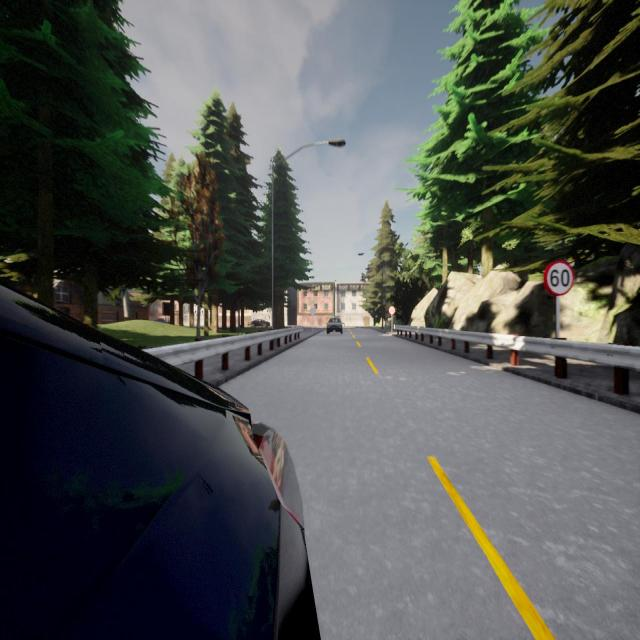Traffic_Signs: (544, 259, 574, 296), (388, 306, 395, 314), (310, 307, 316, 315)
Vehicle: (0, 286, 319, 640), (326, 318, 344, 334), (248, 319, 271, 328)
